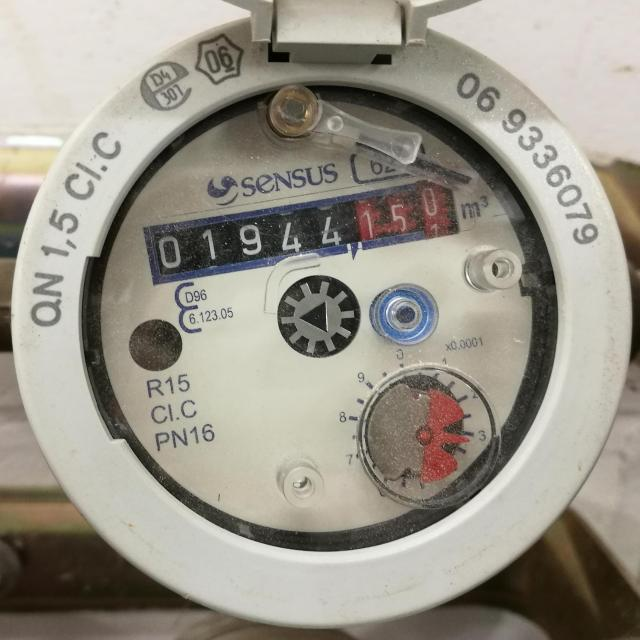gaz_meter: (97, 82, 534, 534)
indication: (145, 177, 462, 283)
